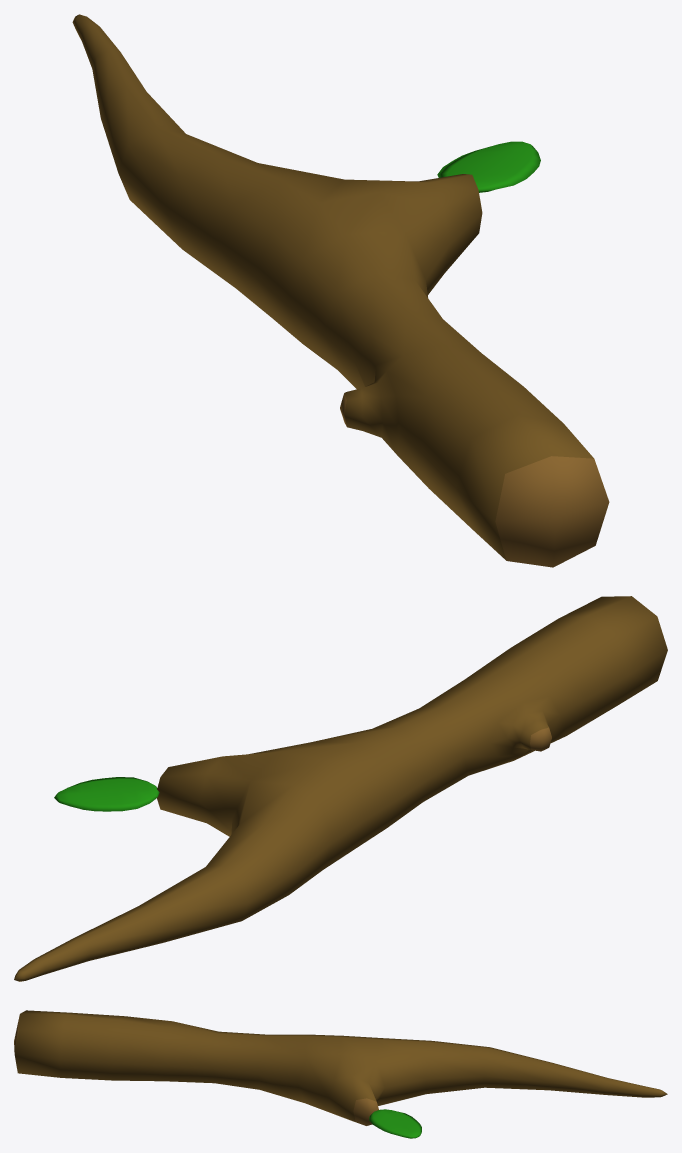
Rendered from Wand.fbx.
The picture shows the model from 3 angles, top to bottom: view 1: azimuth 30°, elevation 25°; view 2: azimuth 150°, elevation 25°; view 3: azimuth 270°, elevation 25°; orthographic projection. The views are drawn at different scales.
Visible parts, largest first — view 1: Wand; view 2: Wand; view 3: Wand.
Boxes of the visible parts, bbox=[...] form: Wand: bbox=[72, 14, 609, 567]; Wand: bbox=[14, 596, 667, 981]; Wand: bbox=[14, 1010, 667, 1138].
Size of the model in its own units: 197 by 59.04 by 528.
